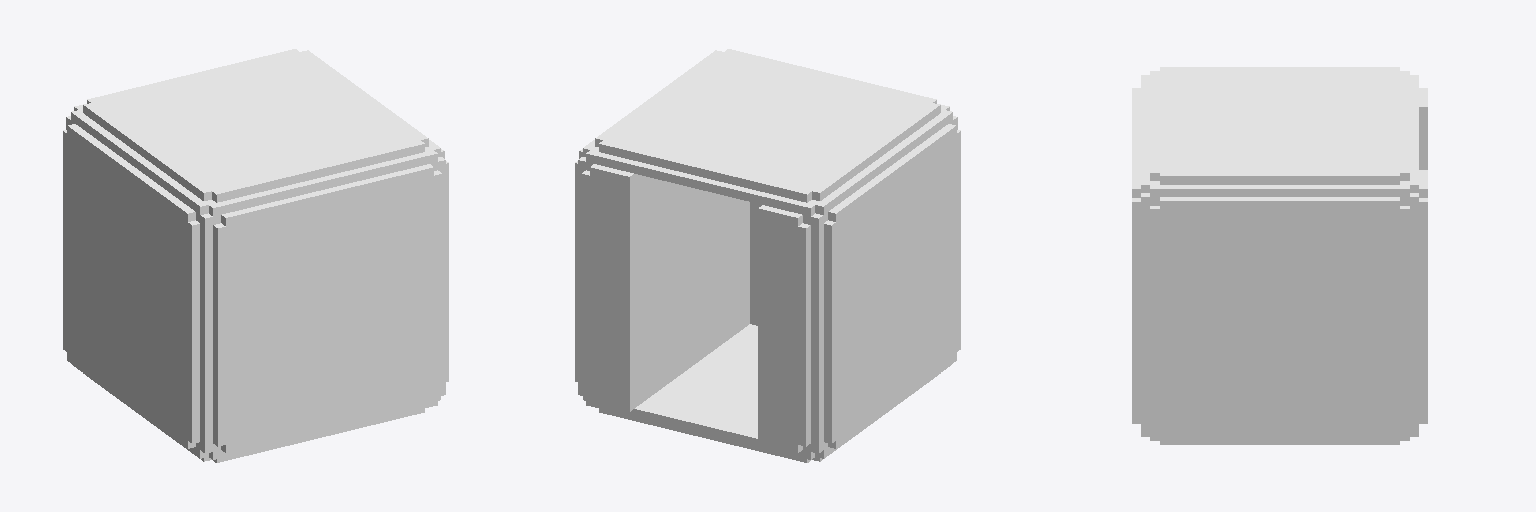
Rendered from StoneCannon-2-Sphere.obj.
The picture shows the model from 3 angles: view 1: azimuth 30°, elevation 25°; view 2: azimuth 150°, elevation 25°; view 3: azimuth 270°, elevation 25°; orthographic projection.
Parts seen in each view (by area): view 1: Sphere; view 2: Sphere; view 3: Sphere.
Part boxes in pixels (bbox=[...]): Sphere: bbox=[63, 49, 448, 462]; Sphere: bbox=[575, 49, 960, 462]; Sphere: bbox=[1132, 67, 1427, 444].
Bounding box in the file's own units: 6.4 × 6.4 × 6.4.